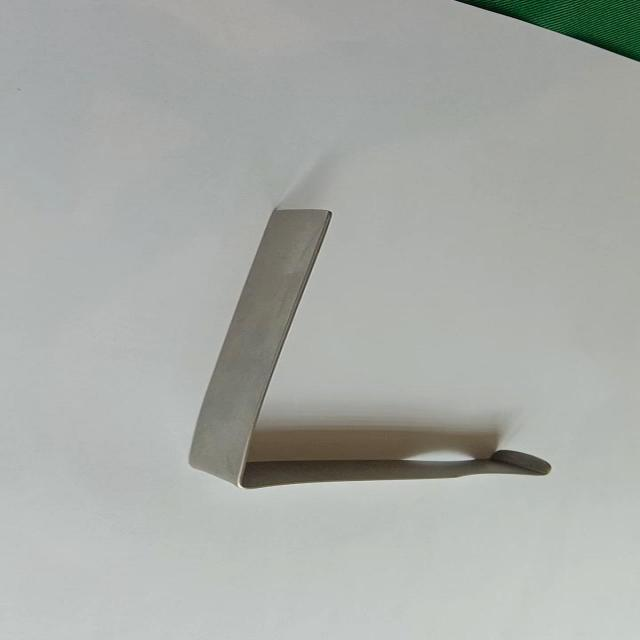AustinRetractor: (178, 197, 572, 493)
